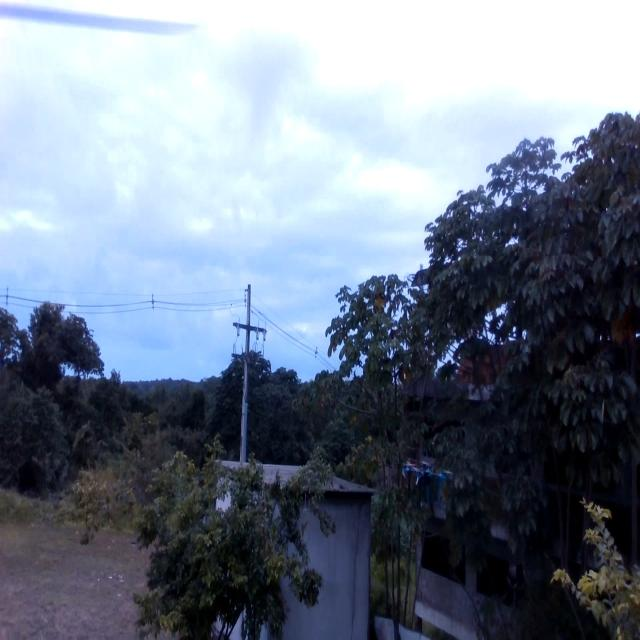-uav-: (399, 440, 463, 520)
